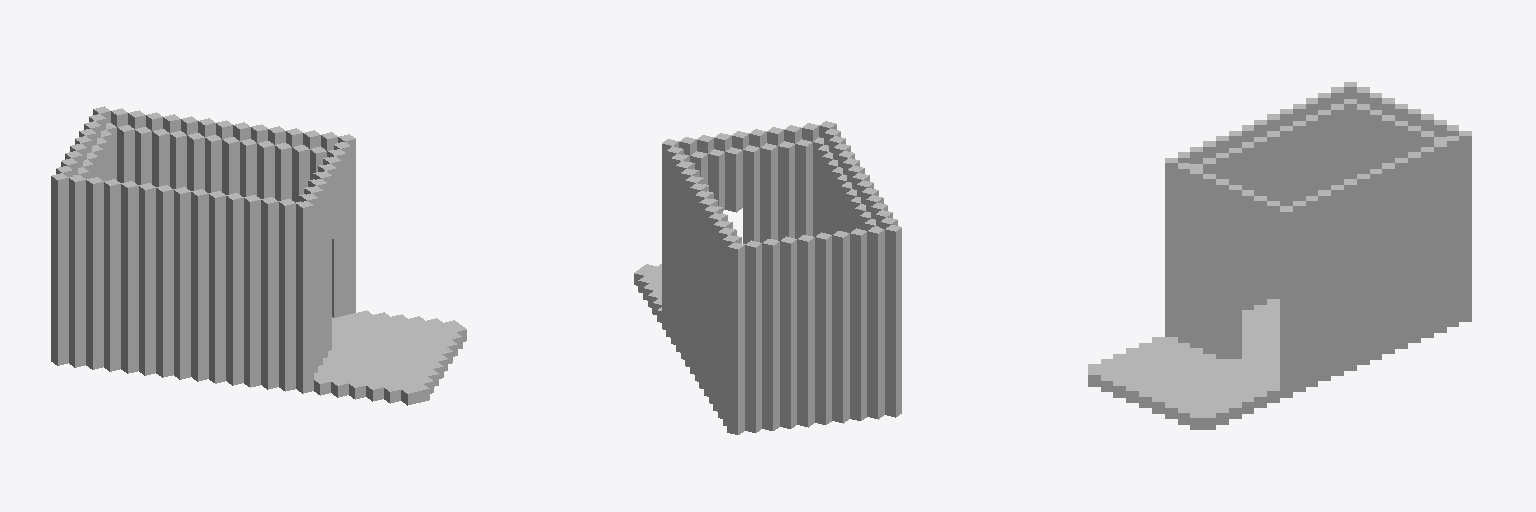
The model's file is Room.obj.
3 renders of one model, left to right at view 1: azimuth 30°, elevation 25°; view 2: azimuth 150°, elevation 25°; view 3: azimuth 270°, elevation 25°, orthographic.
Bounding box in the file's own units: 30 × 16 × 30.